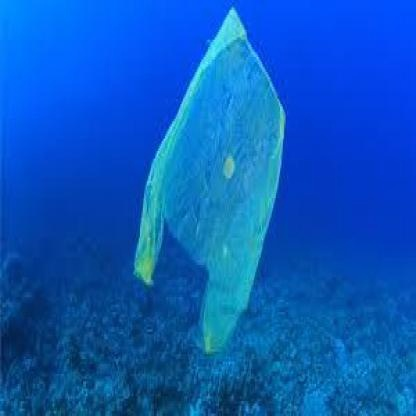pbag: (129, 2, 293, 364)
